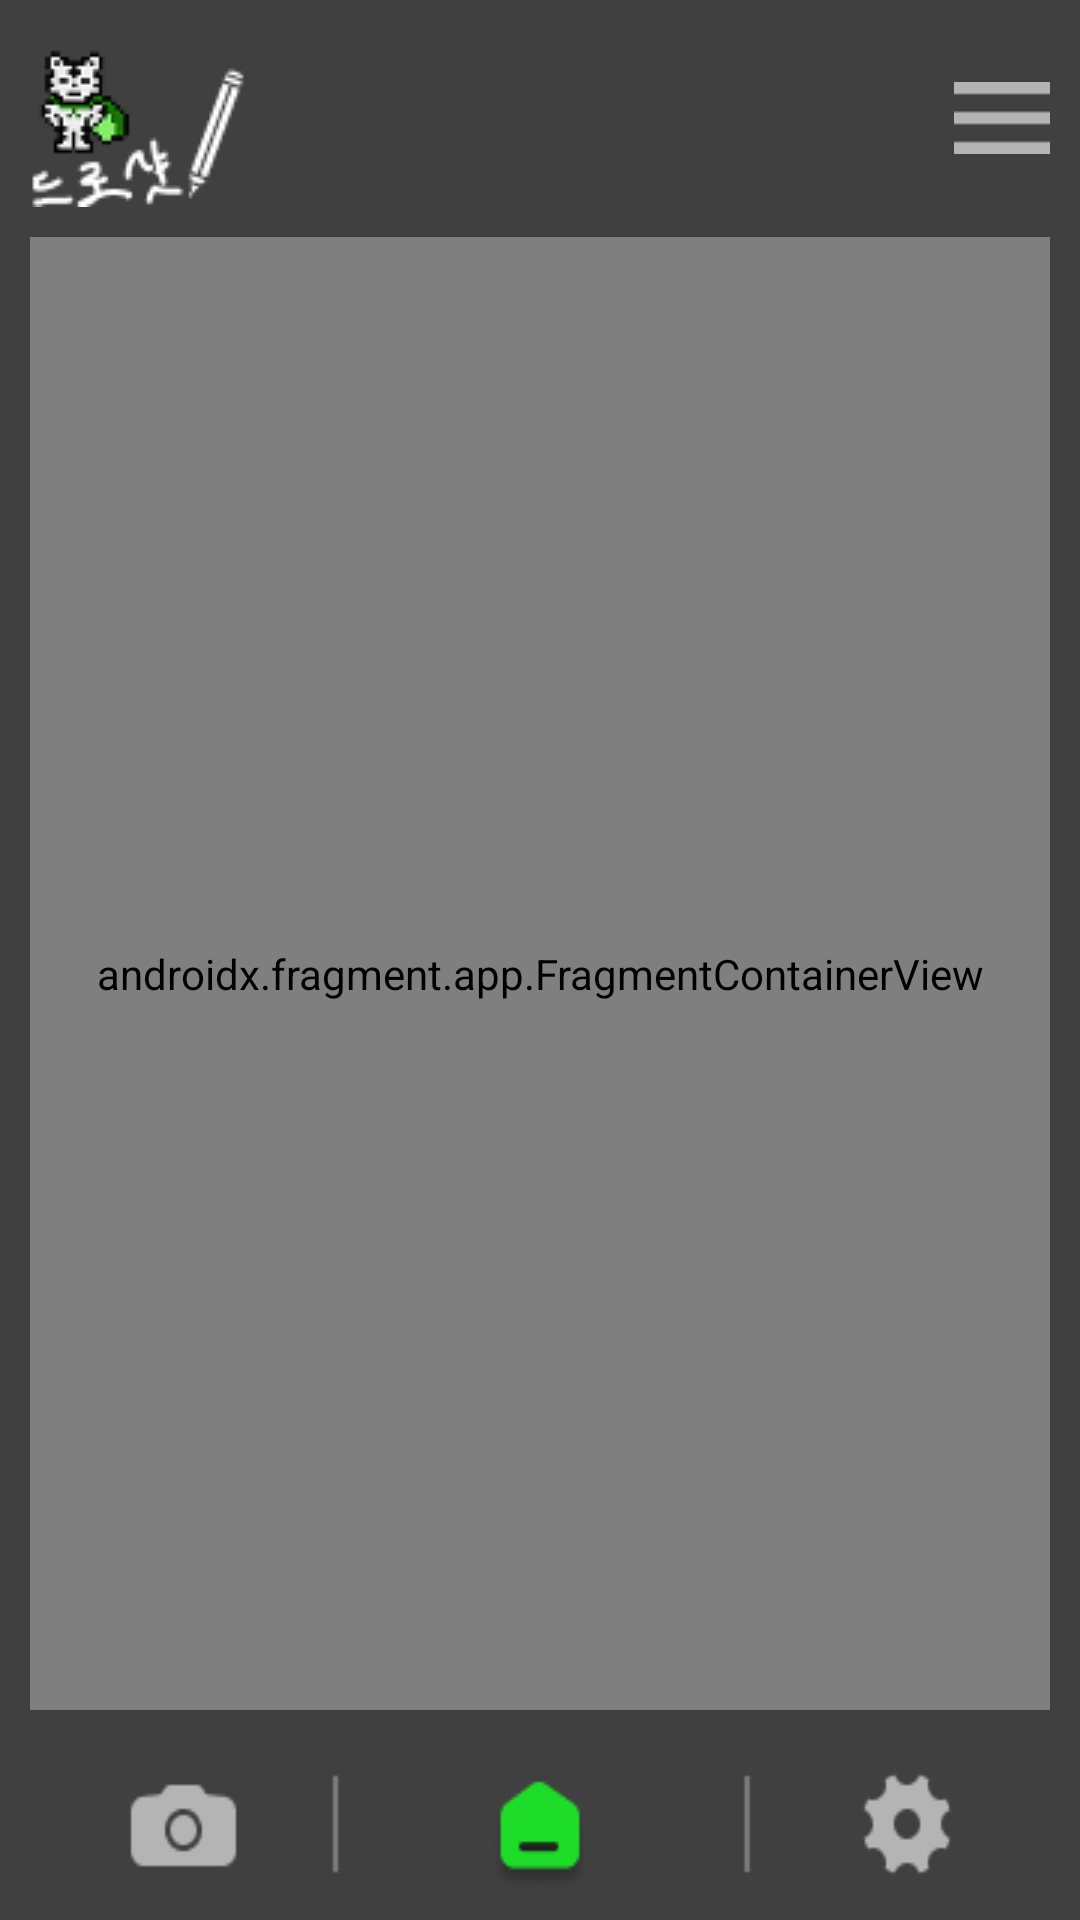

Locate icon controls on the screen. Image size 1080 × 1920, boxes as [x1=x1, y1=y1, x2=x2, y2=y2].
right menu: [x1=954, y1=82, x2=1050, y2=154]
